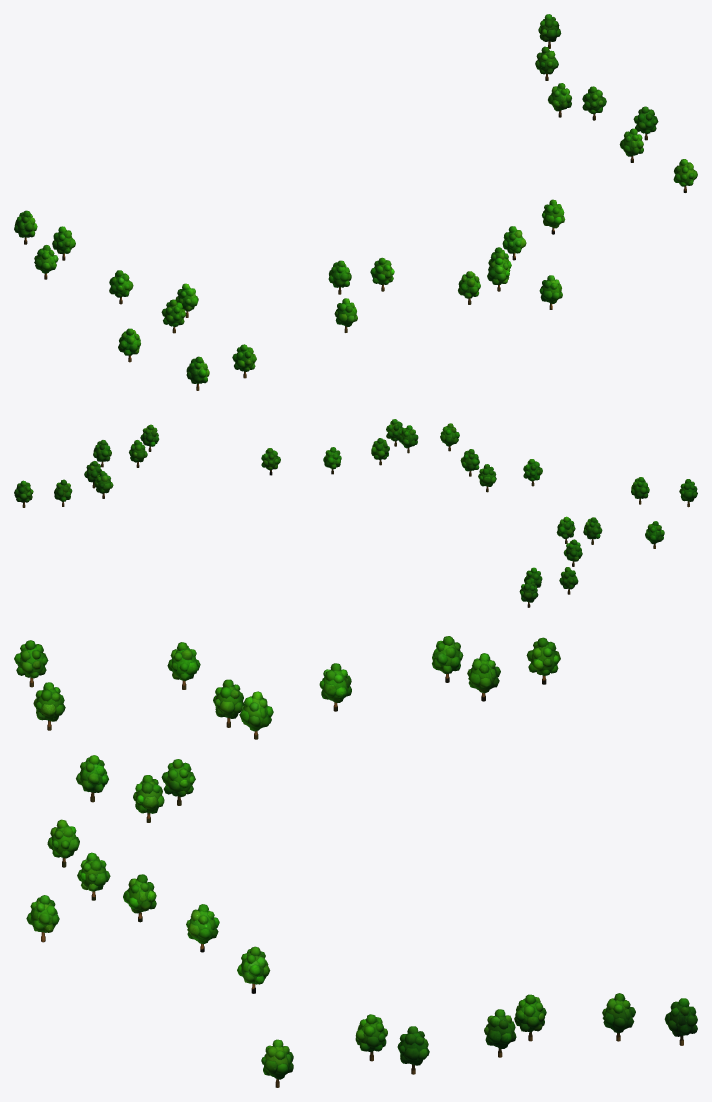
File: collider_tree.fbx
3 views of the same model, one above another, from view 1: azimuth 30°, elevation 25°; view 2: azimuth 150°, elevation 25°; view 3: azimuth 270°, elevation 25° (orthographic). The views are drawn at different scales.
Parts seen in each view (by area): view 1: no part large enough to name; view 2: Tree.001, Tree.023, Tree.007, Tree.024, Tree.005, Tree.003, Tree.016, Tree.010, Tree.004, Tree.011, Tree.019, Tree.009 (+10 smaller); view 3: Tree.009, Tree.002, Tree.016, Tree.005, Tree.023, Tree.013, Tree.017, Tree.020, Tree.006, Tree.015, Tree.018, Tree.022 (+13 smaller).
Part boxes in pixels (x1=…): Tree.001: x1=523, y1=459, x2=542, y2=486; Tree.023: x1=14, y1=480, x2=33, y2=507; Tree.007: x1=261, y1=448, x2=280, y2=475; Tree.024: x1=398, y1=425, x2=418, y2=453; Tree.005: x1=371, y1=438, x2=389, y2=465; Tree.003: x1=460, y1=449, x2=479, y2=476; Tree.016: x1=519, y1=579, x2=538, y2=607; Tree.010: x1=645, y1=521, x2=664, y2=548; Tree.004: x1=440, y1=423, x2=459, y2=451; Tree.011: x1=583, y1=517, x2=602, y2=544; Tree.019: x1=93, y1=440, x2=111, y2=467; Tree.009: x1=679, y1=479, x2=697, y2=507; Tree.009: x1=14, y1=640, x2=48, y2=687; Tree.002: x1=161, y1=759, x2=195, y2=805; Tree.016: x1=526, y1=637, x2=560, y2=684; Tree.005: x1=123, y1=874, x2=156, y2=922; Tree.023: x1=664, y1=998, x2=697, y2=1045; Tree.013: x1=319, y1=663, x2=351, y2=711; Tree.017: x1=261, y1=1039, x2=293, y2=1087; Tree.020: x1=484, y1=1009, x2=516, y2=1057; Tree.006: x1=186, y1=904, x2=219, y2=952; Tree.015: x1=467, y1=653, x2=500, y2=701; Tree.018: x1=355, y1=1014, x2=387, y2=1061; Tree.022: x1=602, y1=993, x2=635, y2=1041.
Bounding box in the file's own units: 115 × 12.44 × 78.83.
